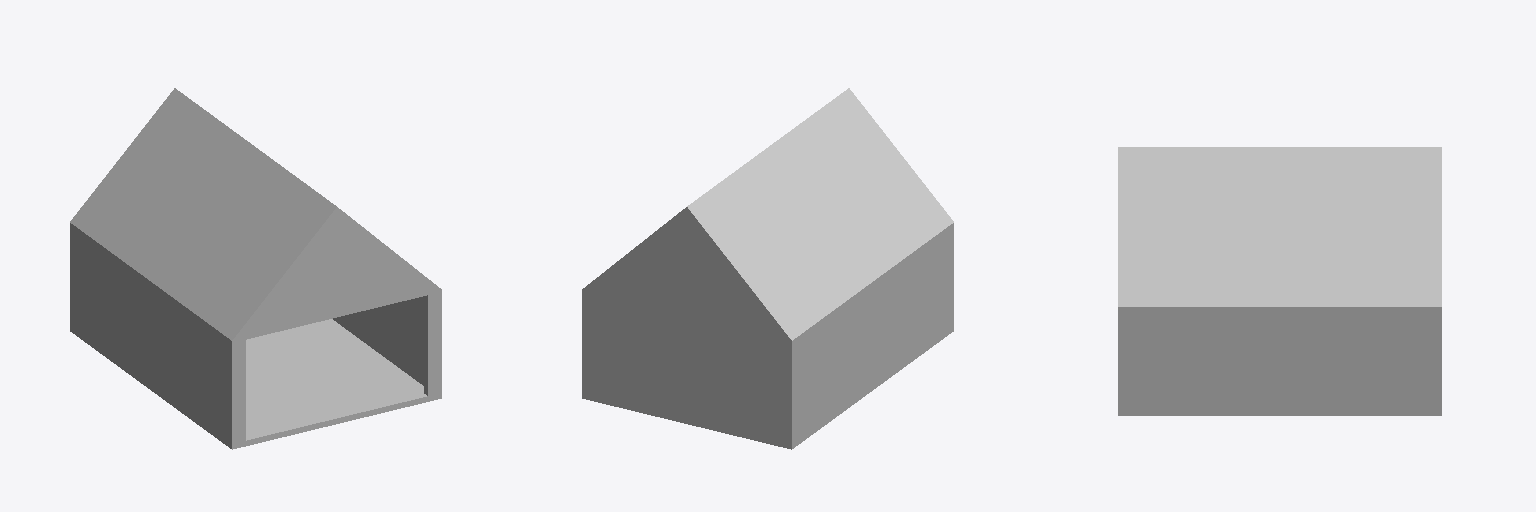
The picture shows the model from 3 angles: view 1: azimuth 30°, elevation 25°; view 2: azimuth 150°, elevation 25°; view 3: azimuth 270°, elevation 25°; orthographic projection.
Parts seen in each view (by area): view 1: object_36, object_33, object_34, object_37, object_31, object_4, object_3; view 2: object_36, object_32, object_33, object_35, object_34; view 3: object_36, object_31, object_34, object_32.
Boxes of the visible parts, <box> form: object_36: <box>70,88,441,340</box>; object_33: <box>74,226,238,443</box>; object_34: <box>70,319,441,449</box>; object_37: <box>240,214,434,338</box>; object_31: <box>333,290,441,393</box>; object_4: <box>424,294,434,395</box>; object_3: <box>239,340,245,441</box>; object_36: <box>582,88,953,340</box>; object_32: <box>582,290,795,443</box>; object_33: <box>796,223,953,440</box>; object_35: <box>589,214,783,338</box>; object_34: <box>582,326,953,449</box>; object_36: <box>1118,147,1441,306</box>; object_31: <box>1118,307,1433,409</box>; object_34: <box>1118,410,1441,415</box>; object_32: <box>1434,307,1441,409</box>.
Size of the model in its own units: 7.97 by 7.88 by 10.66.